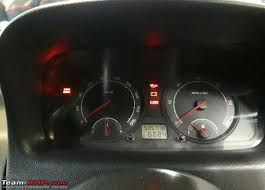Digital_Meter: (143, 124, 167, 138)
